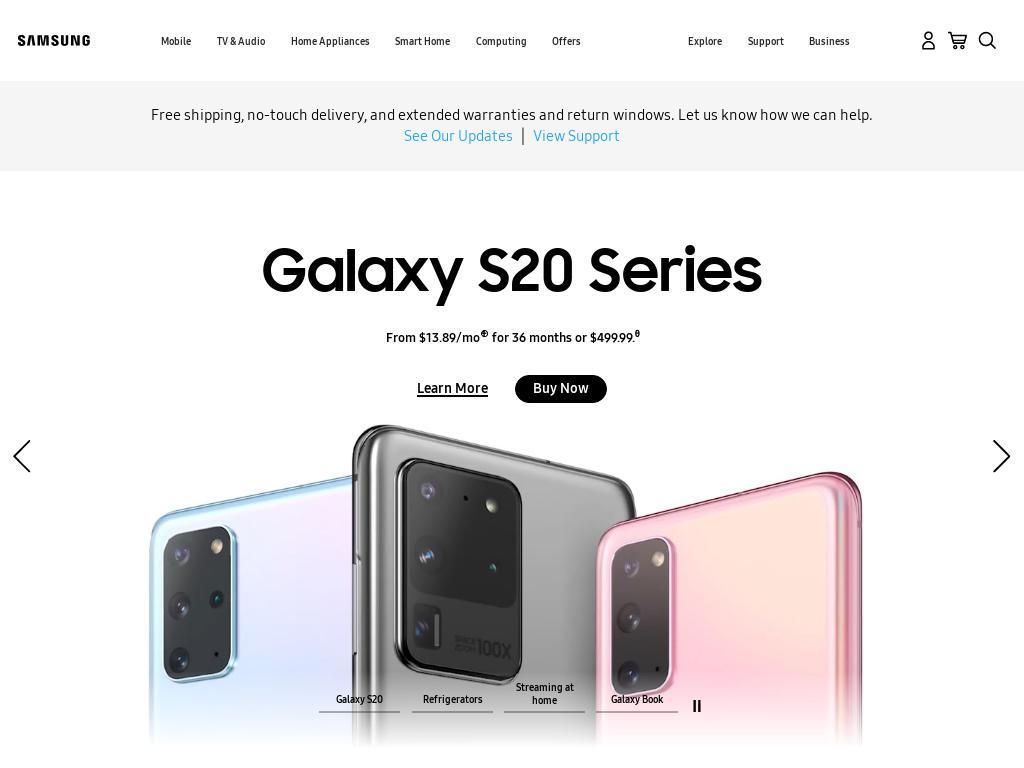button: (514, 374, 607, 404), (504, 680, 586, 711), (0, 436, 46, 482), (978, 436, 1024, 482), (919, 0, 939, 80), (948, 0, 968, 80), (977, 0, 997, 80), (319, 692, 401, 711), (411, 692, 493, 711), (596, 692, 678, 711), (417, 380, 489, 398), (17, 35, 91, 47), (688, 698, 705, 715)
heading: (83, 242, 941, 311), (488, 330, 639, 346), (385, 330, 480, 346), (479, 327, 489, 341)
image: (0, 171, 1024, 747), (0, 203, 1024, 715), (17, 35, 91, 47), (919, 31, 939, 51), (948, 31, 968, 51), (977, 31, 997, 51)
link: (404, 127, 513, 145), (533, 127, 620, 145), (290, 36, 370, 48), (395, 36, 451, 48), (475, 36, 527, 48), (217, 36, 266, 48), (809, 36, 851, 48), (747, 36, 784, 48), (688, 36, 723, 48), (161, 36, 192, 48), (552, 36, 582, 48)
text: (62, 106, 962, 125), (504, 680, 586, 712), (319, 692, 401, 712), (411, 692, 493, 712), (596, 692, 678, 712), (513, 126, 533, 145)
